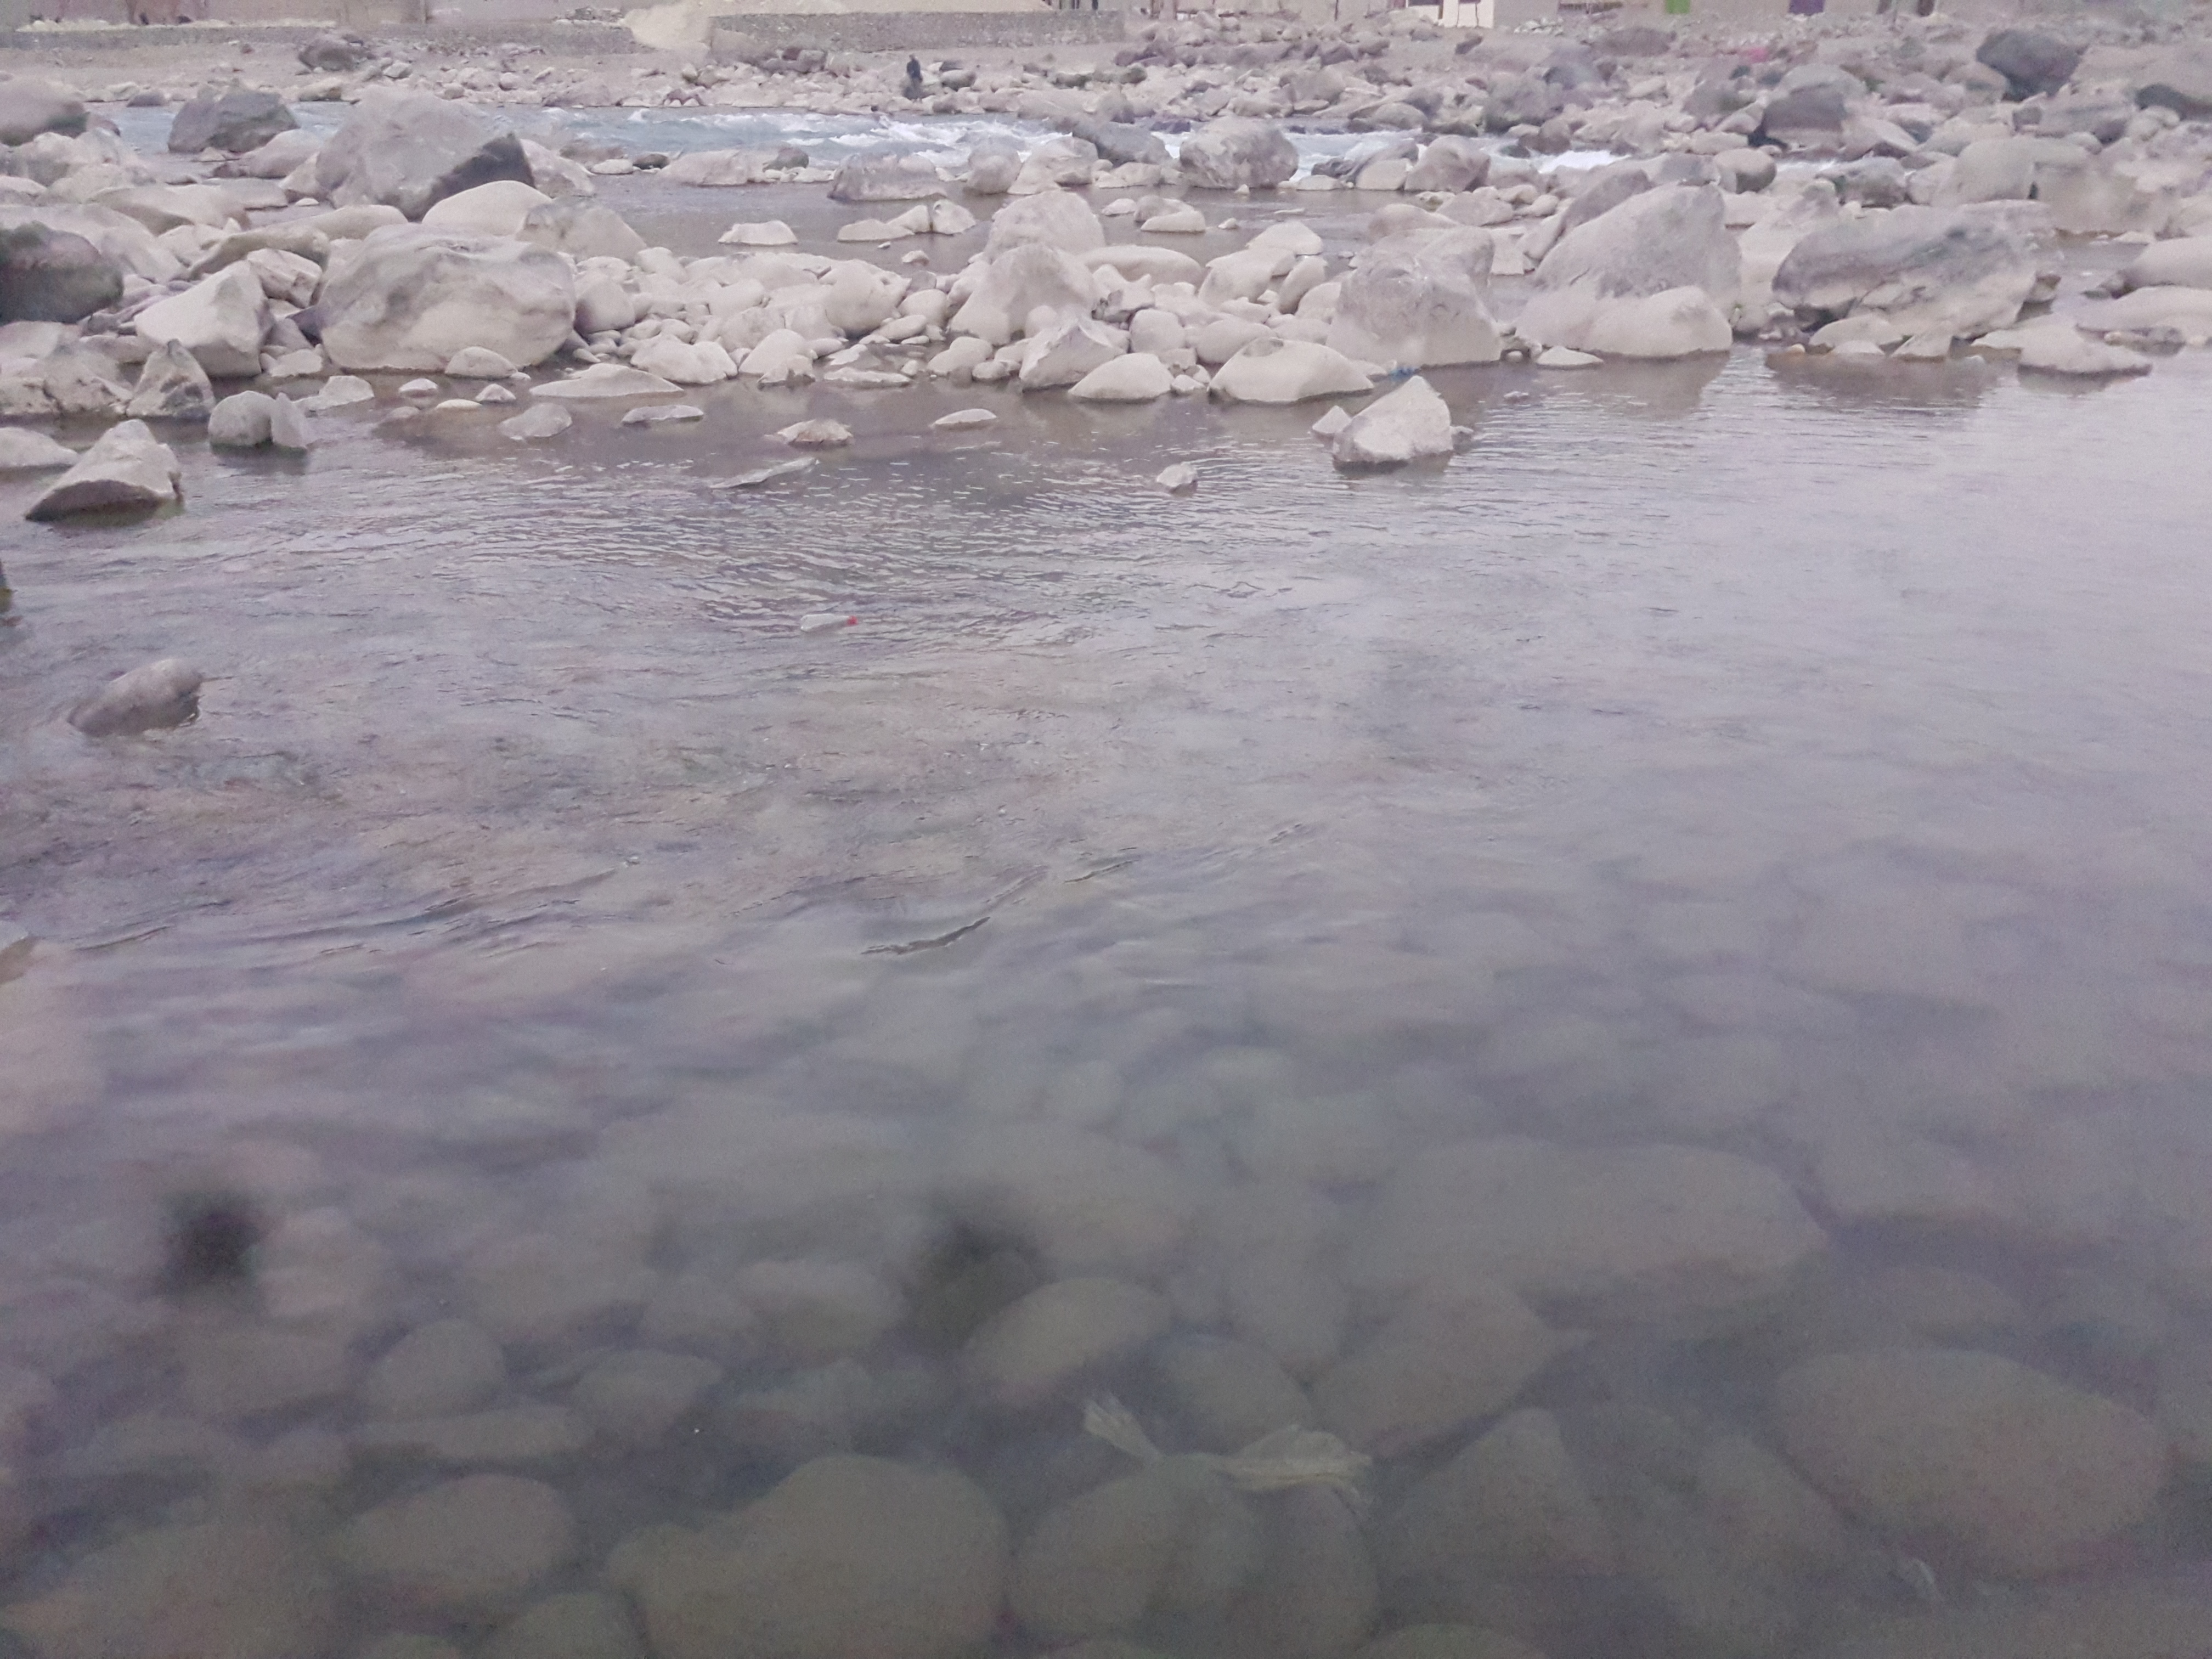Plastic Bottle: (799, 612, 857, 631), (1390, 364, 1421, 376)
